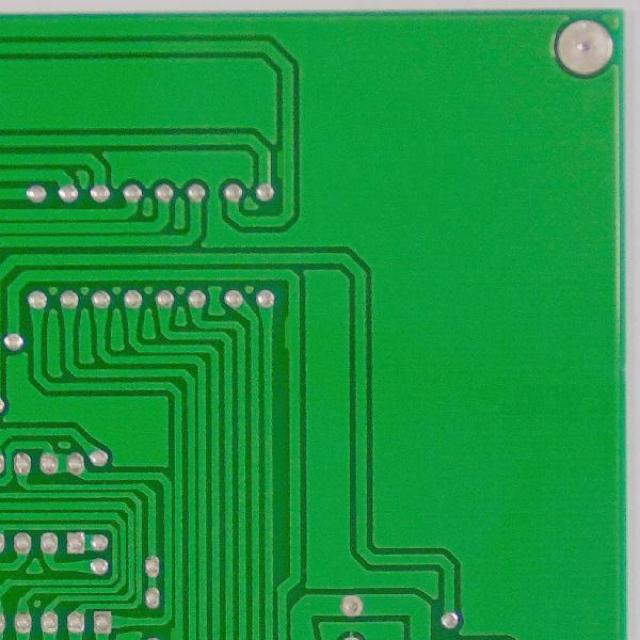Spur: (277, 308, 304, 356), (274, 146, 298, 183), (165, 621, 186, 639)
